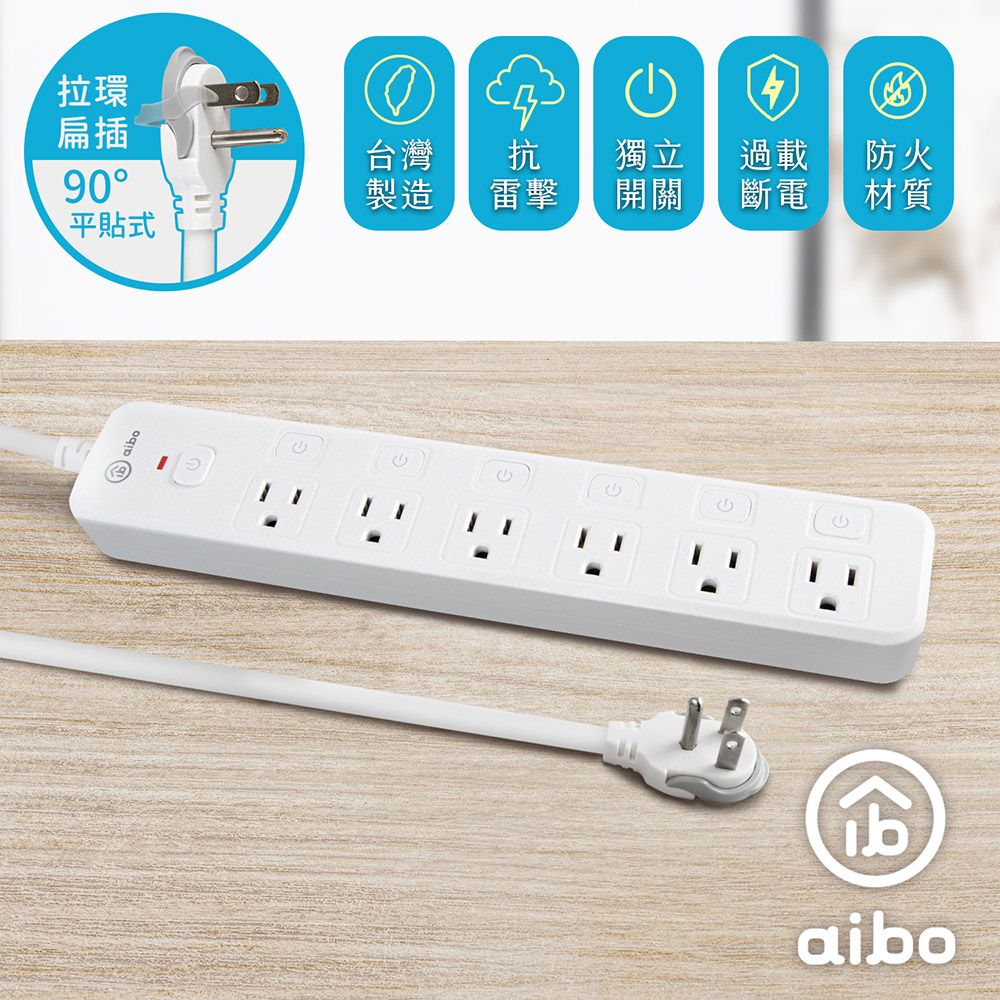socket: (47, 401, 939, 684)
